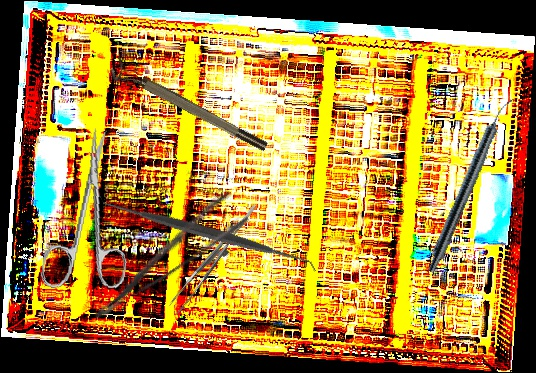Dressing Forceps: (74, 188, 252, 324)
Fixation Ring: (107, 56, 270, 161)
Handpiece: (424, 93, 515, 276)
Iris Scissors: (39, 123, 145, 298)
Spatula Surgical: (99, 126, 316, 340)
Tissue Forceps: (158, 204, 273, 315)
